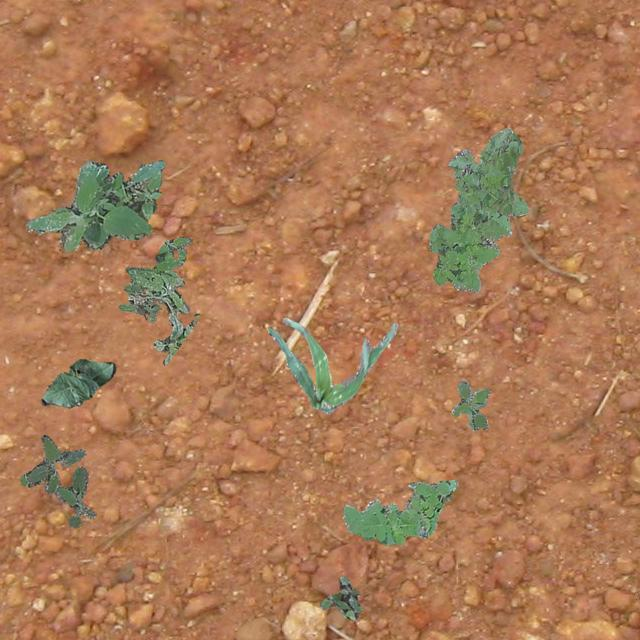crop: (266, 316, 396, 412), (40, 358, 114, 407)
weed: (428, 126, 528, 292), (24, 160, 164, 252), (342, 479, 457, 543), (20, 434, 96, 526), (127, 266, 196, 364), (118, 236, 192, 322), (450, 379, 490, 428), (318, 576, 362, 620), (408, 480, 450, 500)
